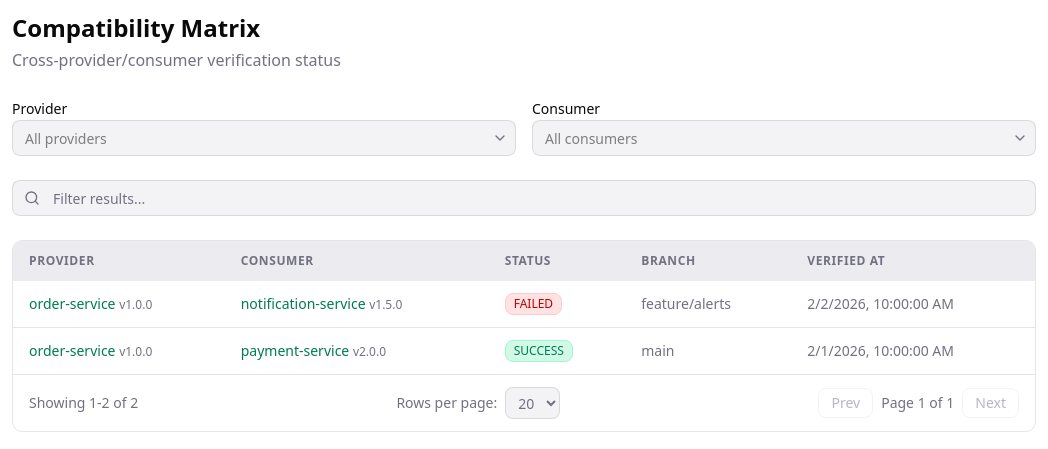
it: MatrixPage › should filter entries by search input
Expected: the text "SUCCESS" is shown, [505,340,573,362]
Type "notification" into the field with placeholder "Filter results..." at {"x": 524, "y": 198}, box [12,180,1036,216]
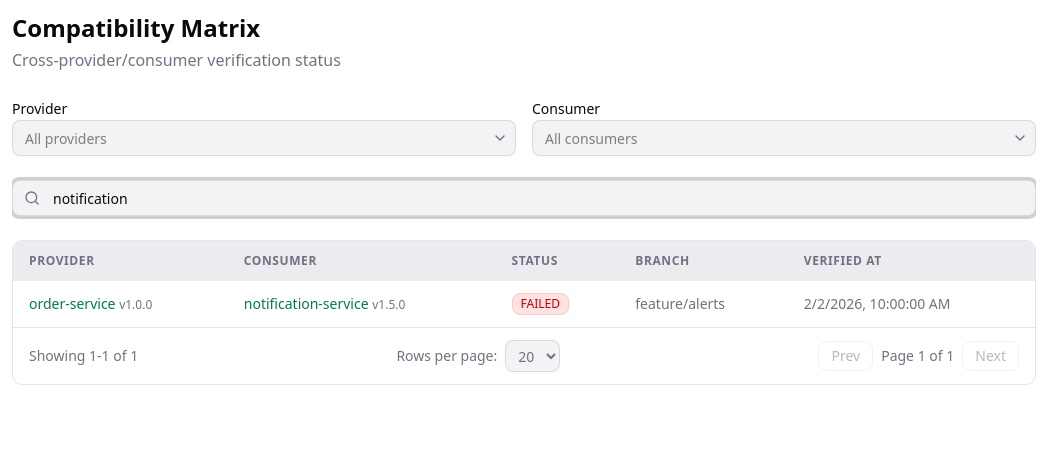
Expected: the button "notification-service" is shown, [244,294,369,314]
Result: the text "SUCCESS" is gone
